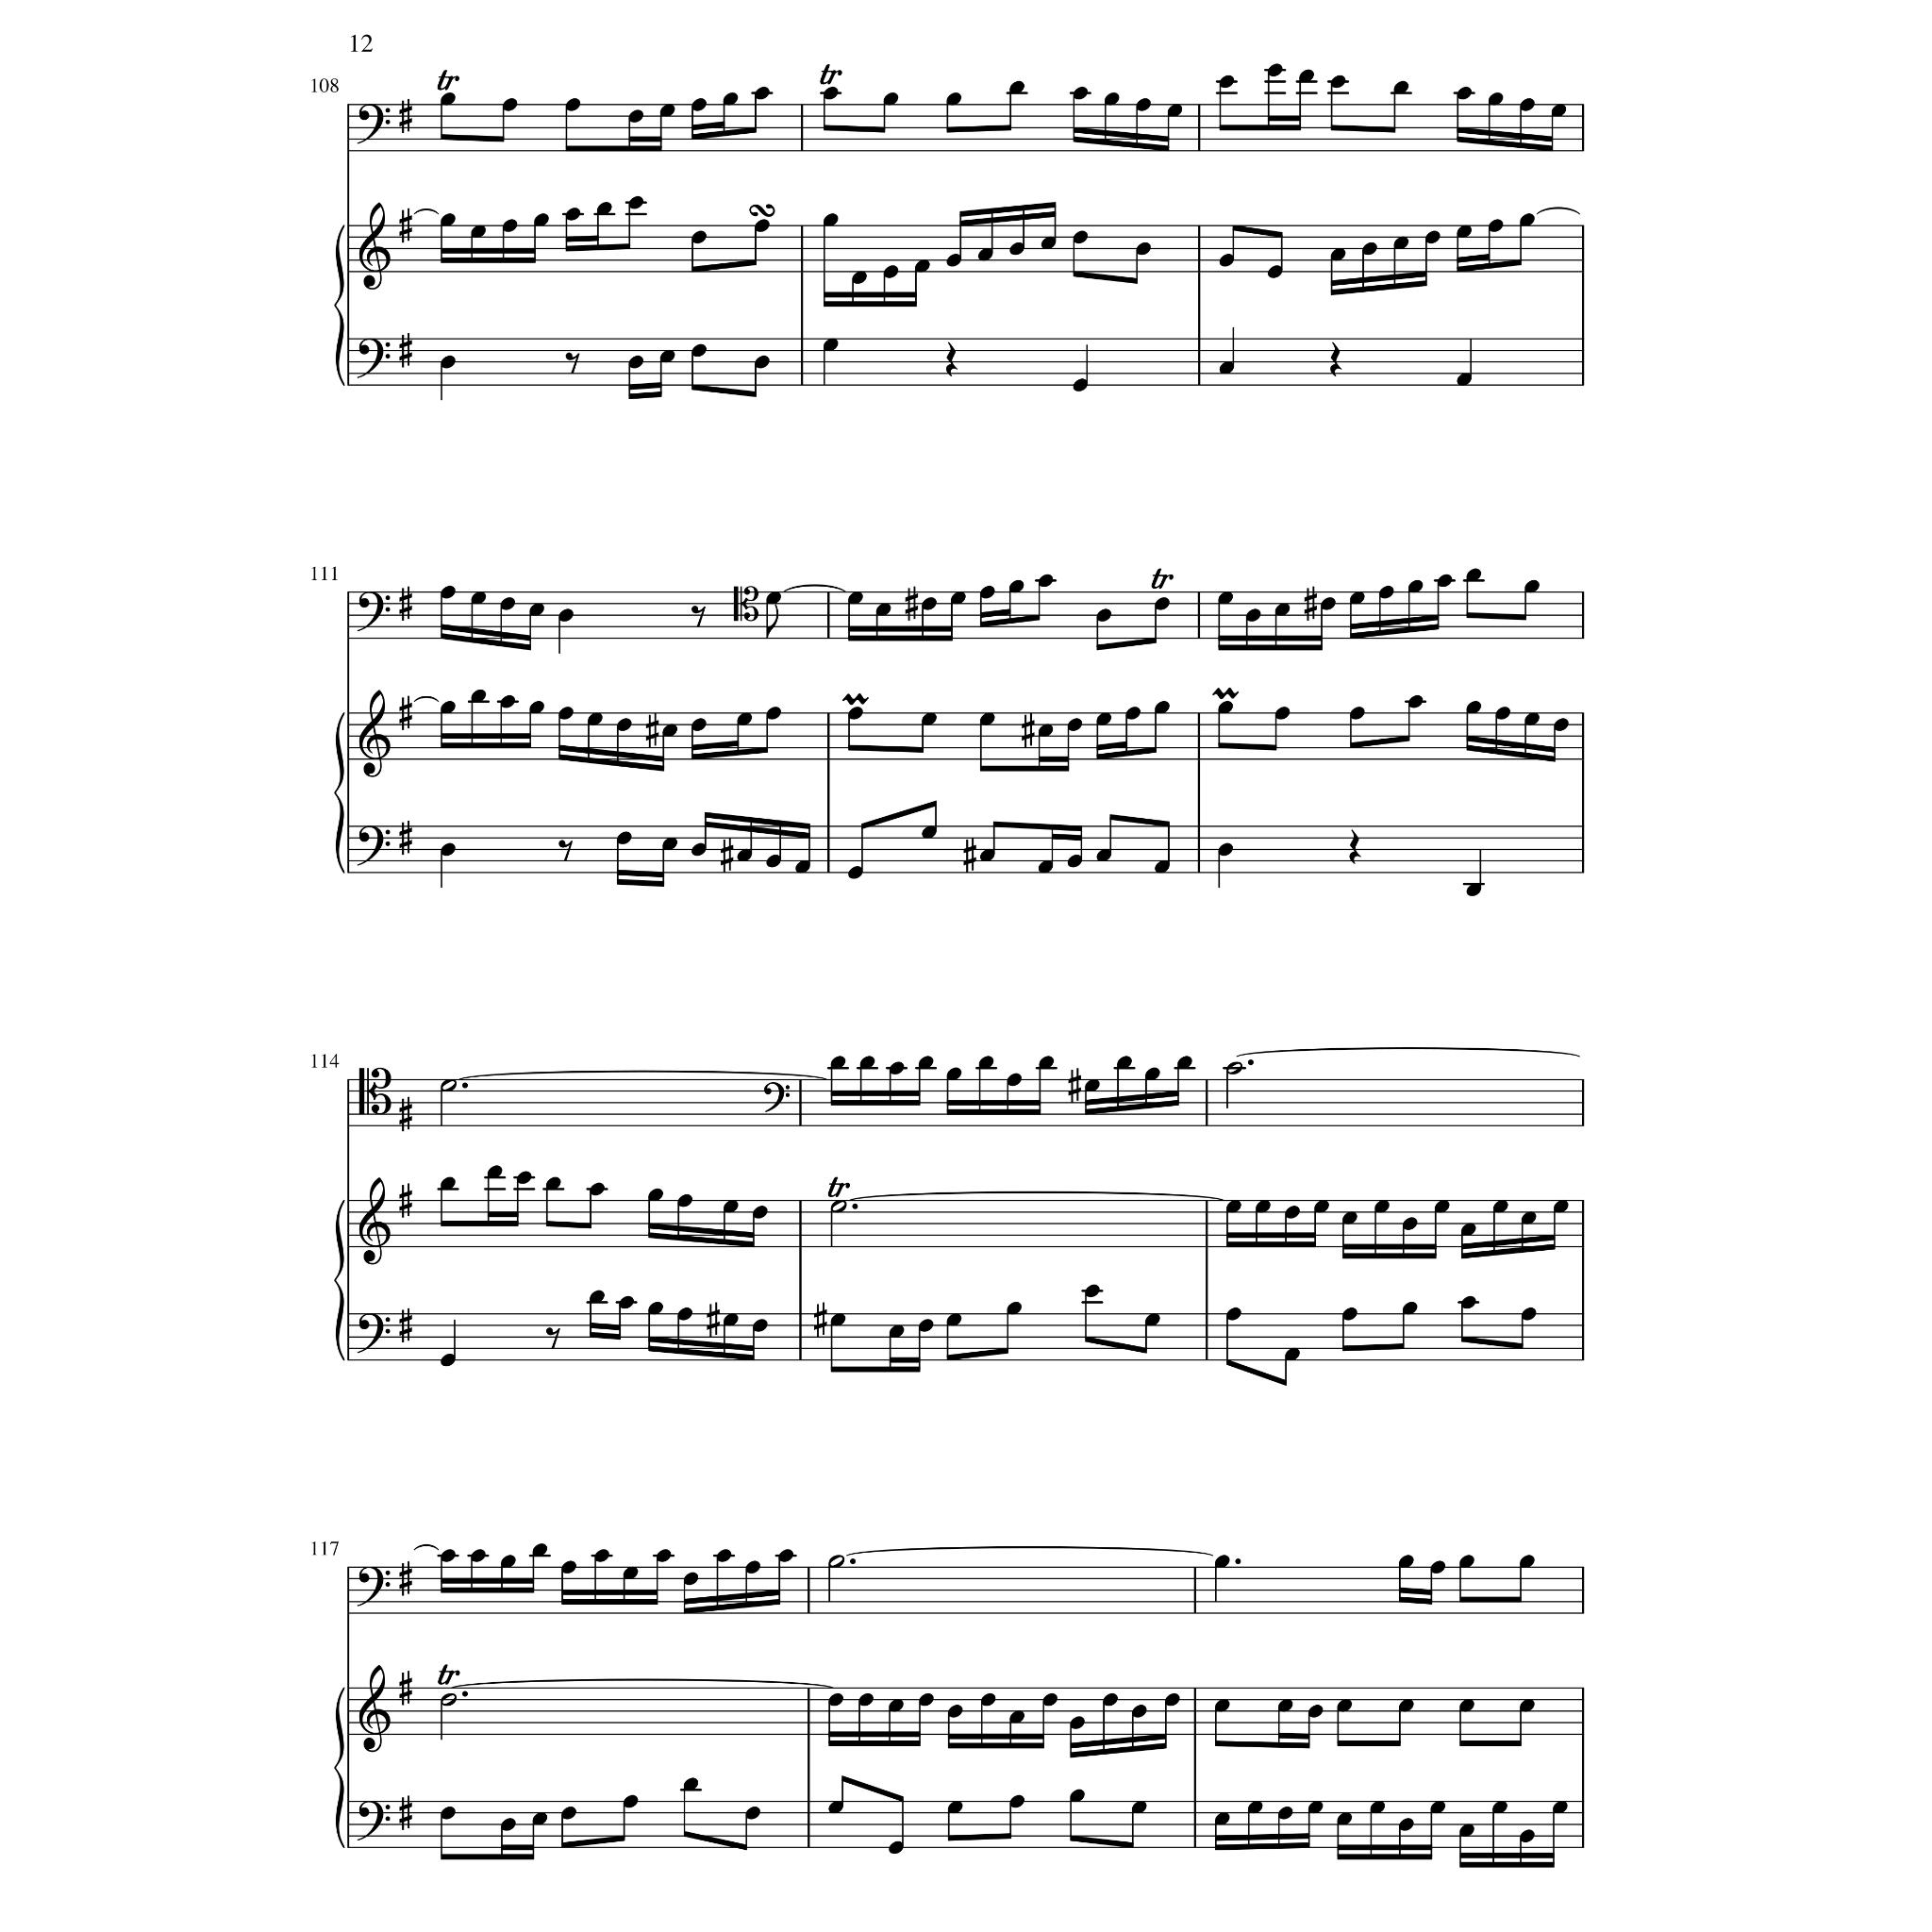brace: (333, 225, 344, 387), (333, 712, 344, 874), (333, 1199, 344, 1361), (333, 1687, 344, 1849)
fClef: (357, 338, 391, 379), (357, 104, 391, 145), (357, 591, 391, 632), (357, 1313, 391, 1355), (357, 1800, 391, 1841), (357, 1566, 391, 1607), (357, 826, 391, 866)
flag8thDown: (766, 604, 779, 640)
gClef: (358, 202, 391, 291), (358, 690, 391, 778), (358, 1176, 391, 1265), (358, 1664, 391, 1753)
noteheadBlack: (1360, 241, 1377, 257), (658, 349, 675, 364), (1008, 579, 1024, 594), (1494, 706, 1511, 721), (1349, 706, 1366, 721), (1274, 706, 1291, 721), (847, 706, 864, 721), (515, 1170, 532, 1185), (1336, 1811, 1353, 1826), (1130, 1704, 1147, 1719), (1213, 1811, 1230, 1826), (1458, 1823, 1475, 1838), (1009, 241, 1024, 257), (1136, 241, 1151, 257), (1125, 706, 1141, 721), (1245, 608, 1260, 623), (1096, 608, 1111, 623), (1524, 579, 1540, 594), (1466, 883, 1481, 898), (1407, 579, 1423, 594), (558, 608, 574, 623), (558, 706, 574, 721), (766, 706, 781, 721), (1285, 1347, 1300, 1362), (1307, 1704, 1323, 1719), (532, 1811, 547, 1826), (947, 1704, 962, 1719), (1298, 70, 1315, 83), (1266, 265, 1283, 278), (1266, 64, 1283, 77), (1040, 237, 1057, 250), (1104, 92, 1121, 106), (1072, 379, 1089, 392), (1072, 231, 1089, 244), (1072, 87, 1089, 100), (1519, 213, 1536, 226), (1519, 98, 1536, 111), (1487, 220, 1504, 233), (1392, 237, 1409, 250), (1392, 81, 1409, 94), (1487, 92, 1504, 106), (564, 208, 581, 221), (564, 98, 581, 111), (532, 213, 549, 226), (658, 105, 675, 118), (470, 225, 487, 239), (440, 356, 457, 369), (440, 213, 457, 226), (440, 92, 457, 106), (823, 339, 840, 352), (823, 213, 840, 226), (945, 254, 962, 267), (945, 92, 962, 106), (913, 260, 930, 274), (851, 272, 868, 285), (753, 356, 770, 369), (753, 220, 770, 233), (753, 87, 770, 100), (823, 87, 840, 100), (1217, 701, 1234, 714), (1217, 591, 1234, 605), (1217, 843, 1234, 857), (1066, 855, 1083, 868), (1066, 718, 1083, 731), (1553, 718, 1570, 731), (1349, 591, 1366, 605), (1274, 603, 1291, 616), (1436, 575, 1453, 588), (587, 712, 604, 725), (528, 603, 545, 616), (528, 701, 545, 714), (615, 718, 632, 731), (615, 832, 632, 845), (440, 586, 457, 599), (440, 701, 457, 714), (440, 843, 457, 857), (470, 591, 487, 605), (470, 690, 487, 703), (847, 591, 864, 605), (847, 866, 864, 879), (949, 591, 966, 605), (921, 825, 938, 839), (921, 597, 938, 610), (921, 712, 938, 725), (736, 712, 753, 725), (736, 849, 753, 862), (794, 860, 811, 874), (977, 1056, 994, 1069), (1255, 1200, 1272, 1213), (1038, 1056, 1055, 1069), (1006, 1302, 1023, 1315), (1006, 1074, 1023, 1087), (1143, 1313, 1160, 1326), (1143, 1068, 1160, 1081), (1115, 1056, 1132, 1069), (1492, 1200, 1509, 1213), (1374, 1200, 1391, 1213), (1341, 1307, 1358, 1321), (1341, 1211, 1358, 1224), (1313, 1200, 1330, 1213), (589, 1183, 606, 1196), (589, 1290, 606, 1303), (723, 1313, 740, 1326), (723, 1200, 740, 1213), (647, 1302, 664, 1315), (647, 1189, 664, 1202), (440, 1354, 457, 1367), (440, 1177, 457, 1191), (858, 1056, 875, 1069), (945, 1313, 962, 1326), (945, 1068, 962, 1081), (917, 1319, 934, 1332), (917, 1056, 934, 1069), (1247, 1801, 1264, 1814), (1336, 1699, 1353, 1712), (1130, 1801, 1147, 1814), (1041, 1693, 1058, 1707), (1213, 1699, 1230, 1712), (1213, 1555, 1230, 1568), (1491, 1801, 1507, 1814), (1458, 1699, 1475, 1712), (1458, 1555, 1475, 1568), (655, 1549, 672, 1562), (500, 1818, 517, 1831), (500, 1555, 517, 1568), (470, 1549, 487, 1562), (440, 1807, 457, 1820), (440, 1549, 457, 1562), (777, 1549, 794, 1562), (715, 1549, 732, 1562), (1219, 361, 1234, 375), (1219, 254, 1234, 267), (1219, 75, 1234, 89), (1167, 105, 1182, 118), (1009, 81, 1024, 94), (977, 248, 992, 261), (1136, 98, 1151, 111), (1551, 105, 1566, 118), (1330, 248, 1345, 261), (1330, 75, 1345, 89), (1457, 373, 1472, 386), (1457, 225, 1472, 239), (1457, 87, 1472, 100), (1424, 231, 1440, 244), (596, 202, 611, 215), (628, 356, 643, 369), (628, 196, 643, 209), (628, 110, 643, 124), (502, 220, 517, 233), (502, 98, 517, 111), (883, 265, 898, 278), (883, 92, 898, 106), (723, 92, 738, 106), (691, 98, 707, 111), (691, 231, 707, 244), (691, 344, 707, 358), (1155, 597, 1170, 610), (1155, 701, 1170, 714), (1155, 860, 1170, 874), (1038, 575, 1053, 588), (1038, 724, 1053, 738), (1038, 860, 1053, 874), (1096, 712, 1111, 725), (1096, 849, 1111, 862), (1524, 712, 1540, 725), (1321, 597, 1336, 610), (1466, 569, 1481, 582), (1466, 701, 1481, 714), (1379, 586, 1394, 599), (1407, 695, 1423, 708), (691, 718, 706, 731), (691, 843, 706, 857), (662, 724, 677, 738), (662, 838, 677, 851), (500, 597, 515, 610), (500, 695, 515, 708), (979, 586, 994, 599), (979, 712, 994, 725), (979, 849, 994, 862), (875, 603, 891, 616), (766, 855, 781, 868), (766, 591, 781, 605), (1226, 1307, 1241, 1321), (1226, 1200, 1241, 1213), (1285, 1206, 1300, 1219), (1085, 1285, 1100, 1298), (1085, 1079, 1100, 1092), (1177, 1056, 1192, 1069), (1553, 1200, 1568, 1213), (1521, 1307, 1536, 1321), (1521, 1211, 1536, 1224), (1402, 1217, 1417, 1230), (1402, 1302, 1417, 1315), (1460, 1296, 1475, 1309), (1460, 1223, 1475, 1236), (1434, 1200, 1449, 1213), (619, 1296, 634, 1309), (545, 1177, 560, 1191), (677, 1194, 692, 1207), (677, 1307, 692, 1321), (487, 1165, 502, 1178), (889, 1324, 904, 1338), (889, 1062, 904, 1075), (830, 1313, 845, 1326), (830, 1056, 845, 1069), (753, 1206, 768, 1219), (753, 1319, 768, 1332), (1307, 1801, 1323, 1814), (1277, 1807, 1292, 1820), (1277, 1699, 1292, 1712), (1103, 1693, 1118, 1707), (1070, 1790, 1085, 1803), (1070, 1716, 1085, 1729), (1164, 1693, 1179, 1707), (1553, 1801, 1568, 1814), (1519, 1829, 1534, 1842), (1519, 1699, 1534, 1712), (1519, 1555, 1534, 1568), (1430, 1801, 1445, 1814), (1430, 1560, 1445, 1574), (1398, 1818, 1413, 1831), (1398, 1699, 1413, 1712), (1398, 1555, 1413, 1568), (1370, 1801, 1385, 1814), (561, 1560, 576, 1574), (561, 1807, 576, 1820), (594, 1549, 609, 1562), (532, 1543, 547, 1557), (683, 1573, 698, 1586), (623, 1794, 638, 1807), (623, 1567, 638, 1580), (683, 1777, 698, 1790), (889, 1841, 904, 1855), (889, 1699, 904, 1712), (858, 1693, 874, 1707), (1009, 1794, 1024, 1807), (1009, 1710, 1024, 1724), (981, 1693, 996, 1707), (947, 1801, 962, 1814), (919, 1693, 934, 1707), (828, 1693, 843, 1707), (745, 1560, 760, 1574), (745, 1807, 760, 1820), (828, 1801, 843, 1814)
noteheadHalf: (1225, 1062, 1242, 1075), (440, 1079, 457, 1092), (830, 1200, 847, 1213), (440, 1693, 457, 1707), (827, 1555, 844, 1568)
rest8th: (565, 353, 580, 375), (558, 840, 573, 862), (691, 606, 706, 628), (545, 1327, 560, 1350)
restQuarter: (945, 341, 958, 377), (1330, 341, 1341, 377), (1349, 829, 1360, 865)
